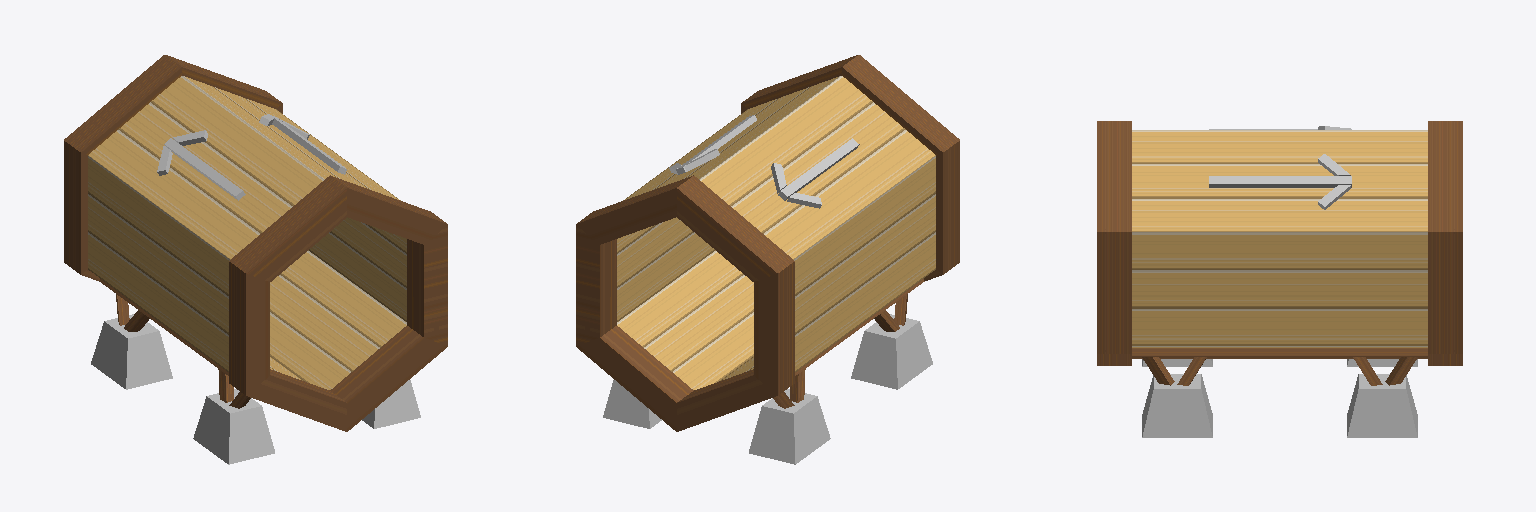
3 views of the same model, side by side, from view 1: azimuth 30°, elevation 25°; view 2: azimuth 150°, elevation 25°; view 3: azimuth 270°, elevation 25° (orthographic).
Visible parts, largest first — view 1: Band7.001_Circle.002, Cylinder.003_Cylinder.006, Cylinder.004_Cylinder.007, Cylinder_Cylinder.005, ConcreteSupport_Cube.001, Cylinder.010_Cylinder.013, Cylinder.002_Cylinder.003, Cube.001_Cube.008, SupportLeg2_Cylinder.002; view 2: Band7.001_Circle.002, Cylinder.003_Cylinder.006, Cylinder.004_Cylinder.007, Cylinder_Cylinder.005, ConcreteSupport_Cube.001, Cylinder.010_Cylinder.013, Cylinder.002_Cylinder.003, Cube.001_Cube.008, SupportLeg2_Cylinder.002; view 3: Cylinder.001, Cylinder.002_Cylinder.003, Band7.001_Circle.002, ConcreteSupport_Cube.001, Cube, Cube.001_Cube.008, SupportLeg_Cylinder.004, SupportLeg2_Cylinder.002, Cylinder.006_Cylinder.009.
Part boxes in pixels (left/top/right/bottom): Band7.001_Circle.002: left=64, top=55, right=447, bottom=431; Cylinder.003_Cylinder.006: left=88, top=76, right=323, bottom=259; Cylinder.004_Cylinder.007: left=88, top=156, right=229, bottom=371; Cylinder_Cylinder.005: left=270, top=250, right=406, bottom=389; ConcreteSupport_Cube.001: left=91, top=314, right=420, bottom=464; Cylinder.010_Cylinder.013: left=309, top=217, right=406, bottom=321; Cylinder.002_Cylinder.003: left=184, top=76, right=400, bottom=200; Cube.001_Cube.008: left=157, top=114, right=346, bottom=200; SupportLeg2_Cylinder.002: left=124, top=310, right=233, bottom=402; Band7.001_Circle.002: left=576, top=55, right=959, bottom=431; Cylinder.003_Cylinder.006: left=700, top=76, right=935, bottom=259; Cylinder.004_Cylinder.007: left=794, top=156, right=935, bottom=371; Cylinder_Cylinder.005: left=617, top=250, right=753, bottom=389; ConcreteSupport_Cube.001: left=603, top=314, right=932, bottom=464; Cylinder.010_Cylinder.013: left=617, top=217, right=714, bottom=321; Cylinder.002_Cylinder.003: left=623, top=76, right=839, bottom=200; Cube.001_Cube.008: left=669, top=115, right=859, bottom=208; SupportLeg2_Cylinder.002: left=790, top=310, right=899, bottom=402; Cylinder.001: left=1132, top=232, right=1427, bottom=345; Cylinder.002_Cylinder.003: left=1132, top=130, right=1427, bottom=231; Band7.001_Circle.002: left=1097, top=121, right=1462, bottom=365; ConcreteSupport_Cube.001: left=1142, top=359, right=1417, bottom=437; Cube: left=1132, top=348, right=1427, bottom=358; Cube.001_Cube.008: left=1209, top=126, right=1351, bottom=209; SupportLeg_Cylinder.004: left=1142, top=357, right=1417, bottom=385; SupportLeg2_Cylinder.002: left=1177, top=357, right=1382, bottom=385; Cylinder.006_Cylinder.009: left=1132, top=346, right=1427, bottom=347.
Size of the model in its own units: 2.33 by 2.97 by 3.64.
4 materials, 2 textured.